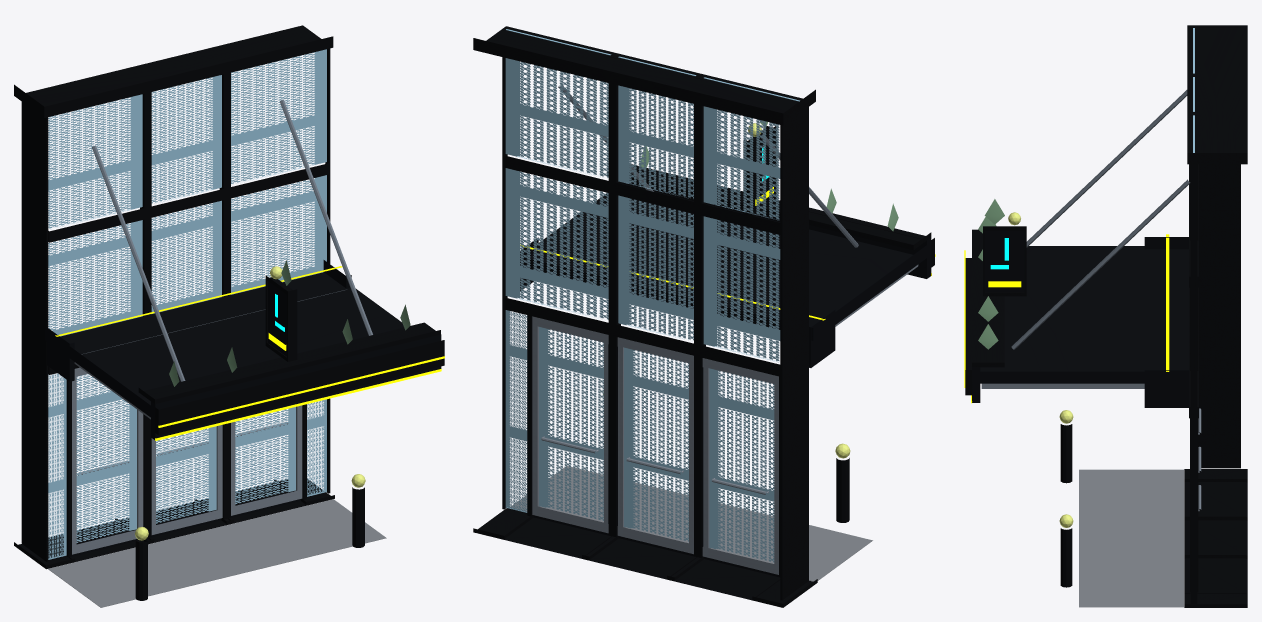
File: tt_entrance_bay_3l.glb
3 views of the same model, side by side, from view 1: azimuth 30°, elevation 25°; view 2: azimuth 150°, elevation 25°; view 3: azimuth 270°, elevation 25° (orthographic). The views are drawn at different scales.
Visible parts, largest first — view 1: Frame, Canopy, Threshold_Mat, Fascia_Gunmetal, Upper_Scissor_21, Upper_Scissor_01, Leaf_0_Door_Scissor, Upper_Scissor_00, Upper_Scissor_20, Upper_Scissor_11, Upper_Scissor_10, Leaf_1_Door_Scissor (+13 smaller); view 2: Frame, Canopy, Upper_Scissor_20, Leaf_1_Door_Scissor, Leaf_2_Door_Scissor, Leaf_0_Door_Scissor, Upper_Scissor_21, Threshold_Mat, Upper_Scissor_00, Upper_Scissor_10, Upper_Scissor_01, Upper_Scissor_11 (+10 smaller); view 3: Frame, Canopy, Threshold_Mat, Fascia_Gunmetal, Tie_Rods, Blade_Core, Ball_Bollards, Canopy_Soffit, Court_Line_LED, Blade_Frame, Fascia_Leaf_Crests.
Boxes of the visible parts, box(x1,y1,x2,y2) form: Frame: box(14, 25, 334, 569); Canopy: box(45, 260, 403, 417); Threshold_Mat: box(48, 499, 386, 607); Fascia_Gunmetal: box(138, 322, 444, 435); Upper_Scissor_21: box(231, 49, 326, 183); Upper_Scissor_01: box(48, 94, 142, 228); Leaf_0_Door_Scissor: box(76, 374, 136, 542); Upper_Scissor_00: box(48, 220, 142, 336); Upper_Scissor_20: box(231, 175, 326, 294); Upper_Scissor_11: box(151, 75, 221, 203); Upper_Scissor_10: box(151, 200, 221, 313); Leaf_1_Door_Scissor: box(156, 426, 216, 523); Frame: box(473, 26, 817, 607); Canopy: box(520, 183, 926, 367); Upper_Scissor_20: box(505, 168, 608, 319); Leaf_1_Door_Scissor: box(624, 347, 688, 541); Leaf_2_Door_Scissor: box(539, 327, 603, 520); Leaf_0_Door_Scissor: box(709, 368, 774, 562); Upper_Scissor_21: box(505, 29, 611, 177); Threshold_Mat: box(510, 466, 872, 581); Upper_Scissor_00: box(703, 216, 780, 362); Upper_Scissor_10: box(618, 195, 693, 340); Upper_Scissor_01: box(703, 77, 799, 220); Upper_Scissor_11: box(618, 56, 696, 198); Frame: box(1184, 25, 1247, 607); Canopy: box(980, 237, 1189, 407); Threshold_Mat: box(1079, 469, 1183, 607); Fascia_Gunmetal: box(965, 229, 1004, 395); Tie_Rods: box(1011, 90, 1190, 349); Blade_Core: box(985, 230, 1024, 292); Ball_Bollards: box(1060, 424, 1072, 587); Canopy_Soffit: box(981, 383, 1144, 388); Court_Line_LED: box(964, 234, 1169, 403); Blade_Frame: box(983, 226, 1026, 296); Fascia_Leaf_Crests: box(978, 217, 998, 349).
Size of what is drawn, in the model's own units: 4 by 6.1 by 3.44.
Materials: 10 (5 with a texture image).
